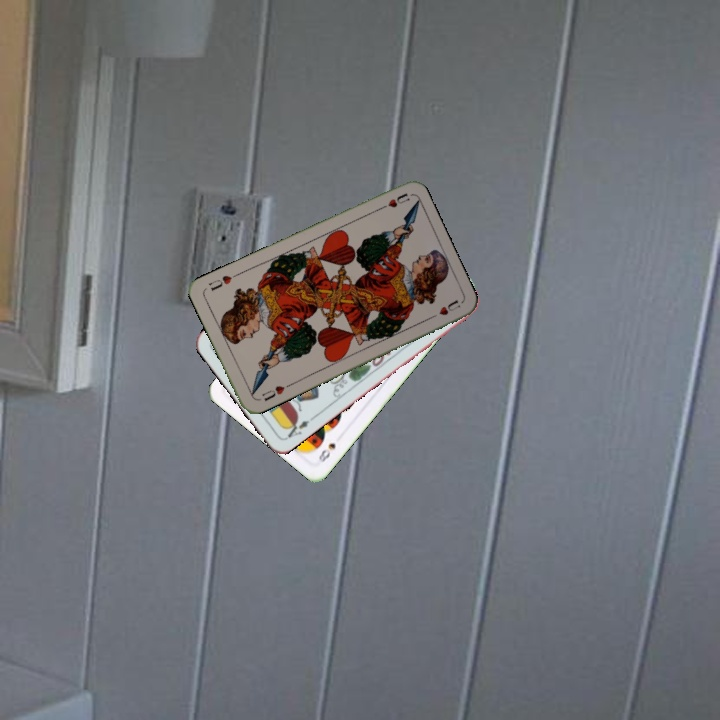EA: (280, 415, 312, 442)
HU: (373, 189, 412, 213), (258, 380, 292, 404)
S8: (315, 439, 338, 468)
